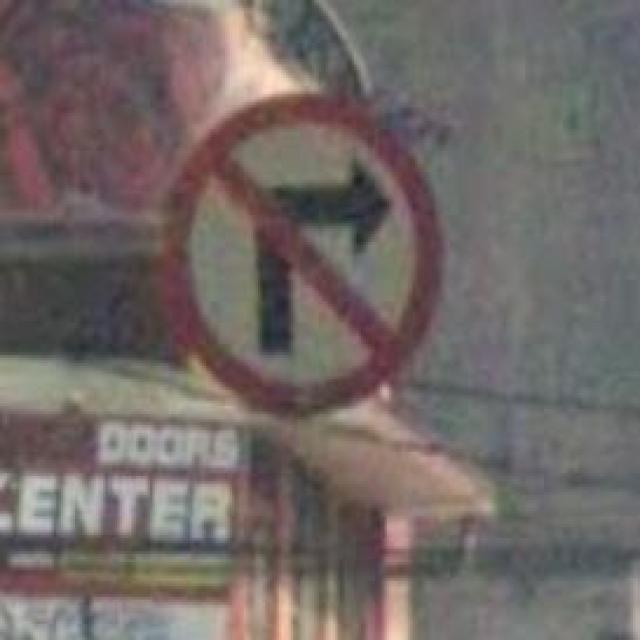traffic sign: (167, 97, 439, 414)
